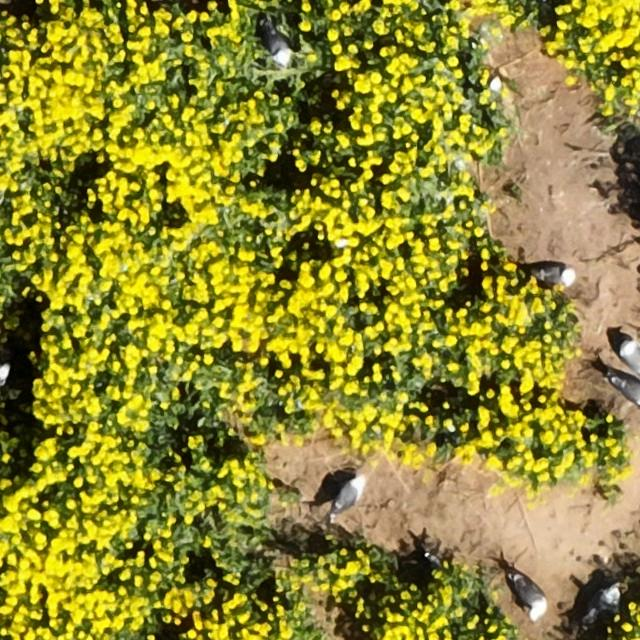umineko: (508, 573, 545, 621), (333, 473, 368, 512), (588, 584, 618, 617), (266, 27, 292, 64), (542, 269, 580, 288), (614, 379, 640, 406), (620, 338, 640, 372), (468, 232, 481, 262), (0, 362, 7, 387)
